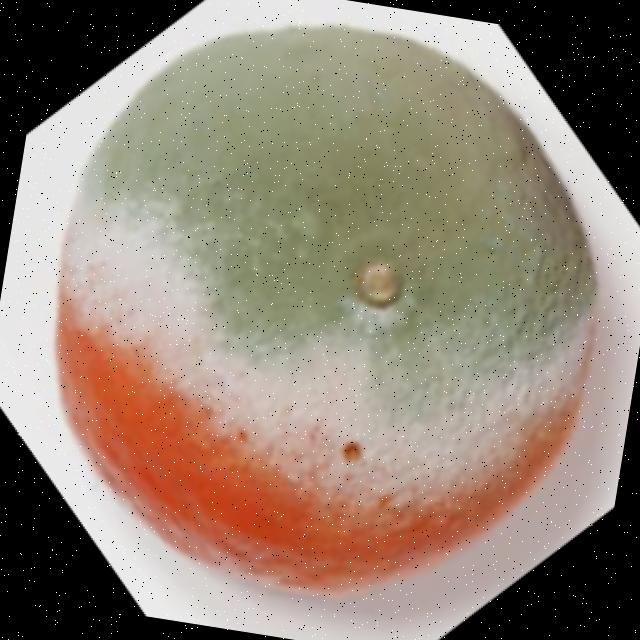Rotten: (9, 0, 637, 635)
